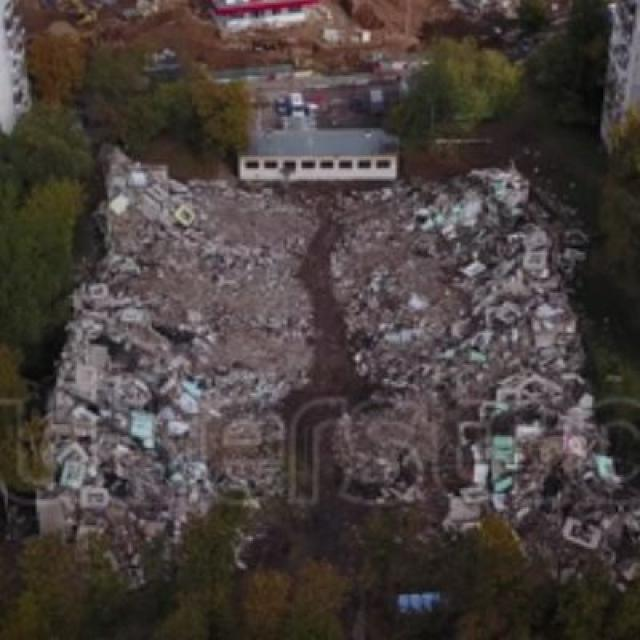collapsed_building: (54, 177, 606, 548)
